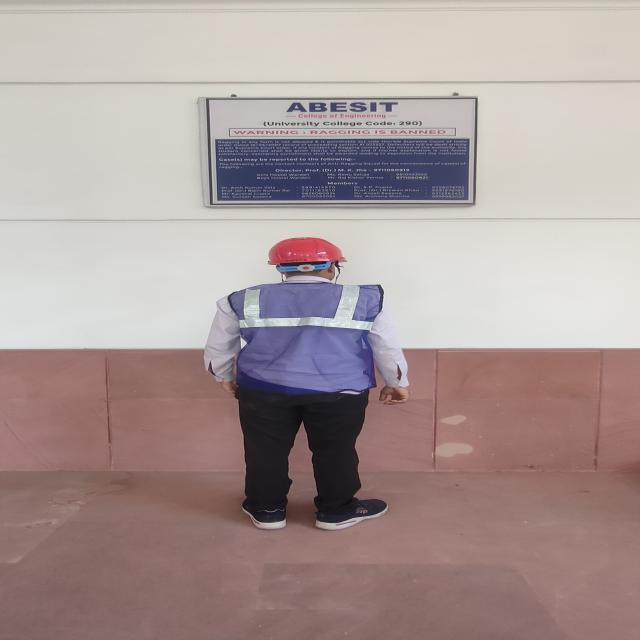safe: (204, 238, 408, 530)
